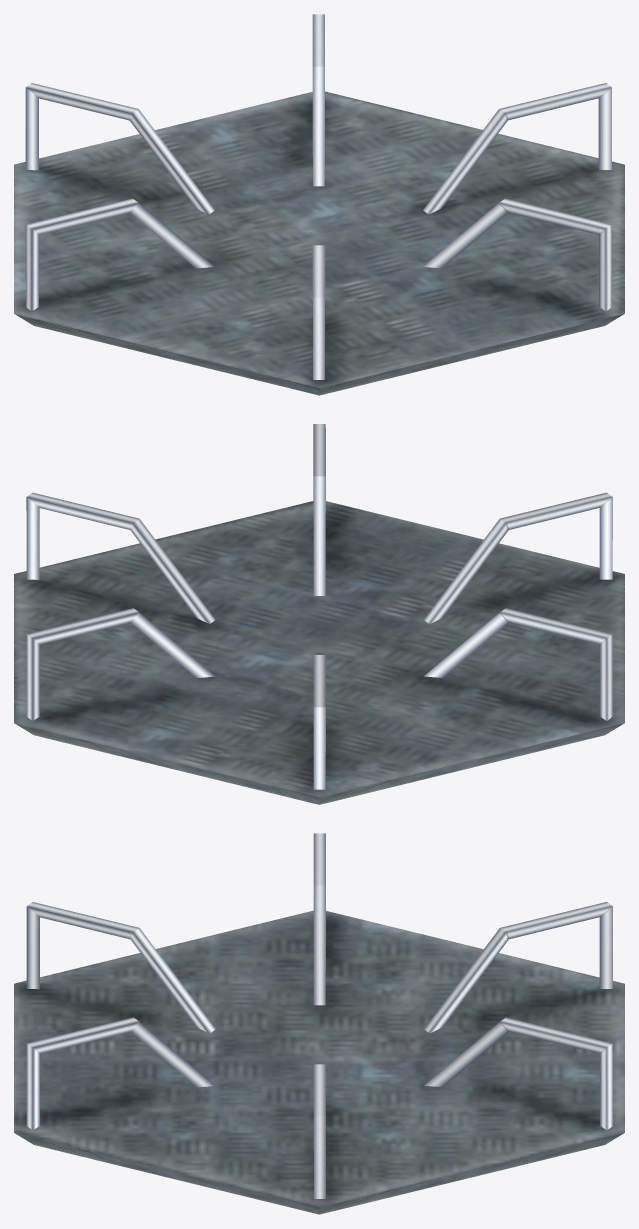
File: RideSpin.glb
The picture shows the model from 3 angles, top to bottom: view 1: azimuth 30°, elevation 25°; view 2: azimuth 150°, elevation 25°; view 3: azimuth 270°, elevation 25°; orthographic projection.
Parts seen in each view (by area): view 1: RideSpin; view 2: RideSpin; view 3: RideSpin.
Boxes of the visible parts, x1=… form: RideSpin: x1=14, y1=14, x2=624, y2=395; RideSpin: x1=14, y1=424, x2=624, y2=804; RideSpin: x1=14, y1=833, x2=624, y2=1214.
Size of the model in its own units: 991 by 155 by 859.
1 material, 1 textured.
